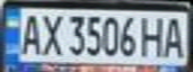0: (103, 14, 121, 57)
3: (63, 11, 84, 56)
5: (84, 12, 106, 57)
6: (118, 14, 142, 57)
A: (160, 13, 190, 60), (15, 10, 45, 56)
H: (136, 14, 169, 58)
X: (36, 10, 66, 56)
